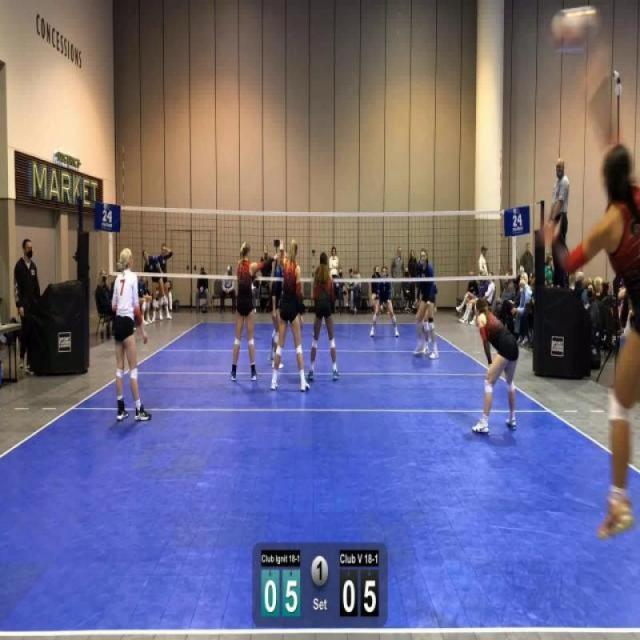volleyball: (548, 2, 603, 53)
